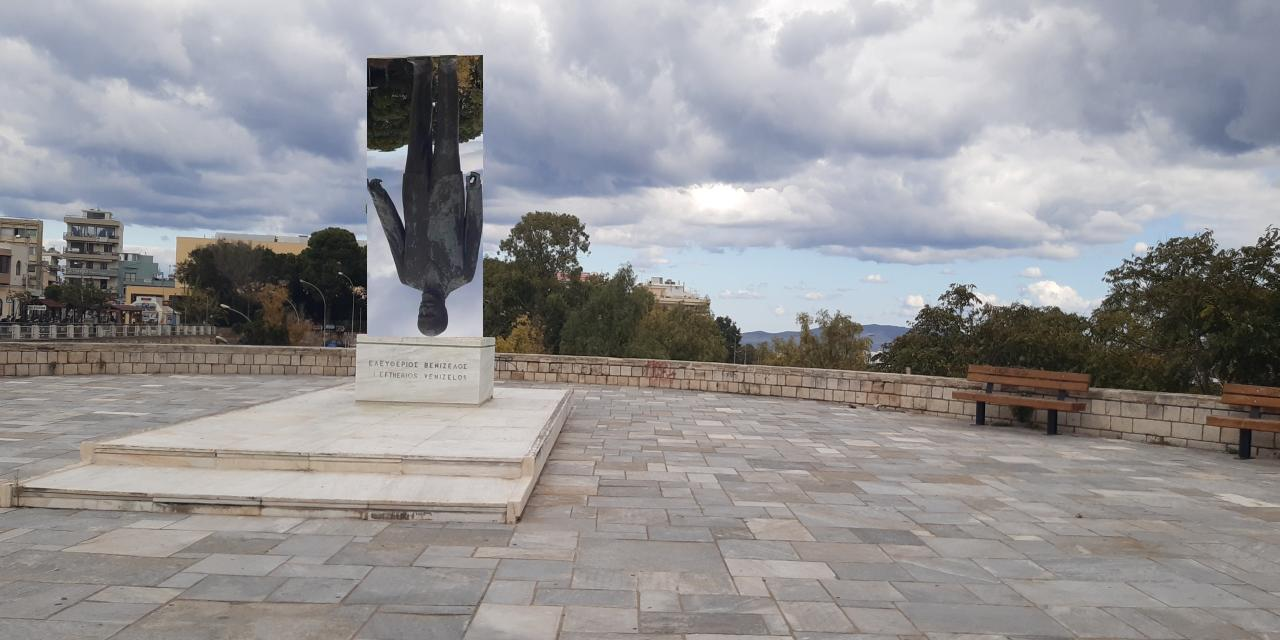Venizelos: (368, 56, 484, 338)
